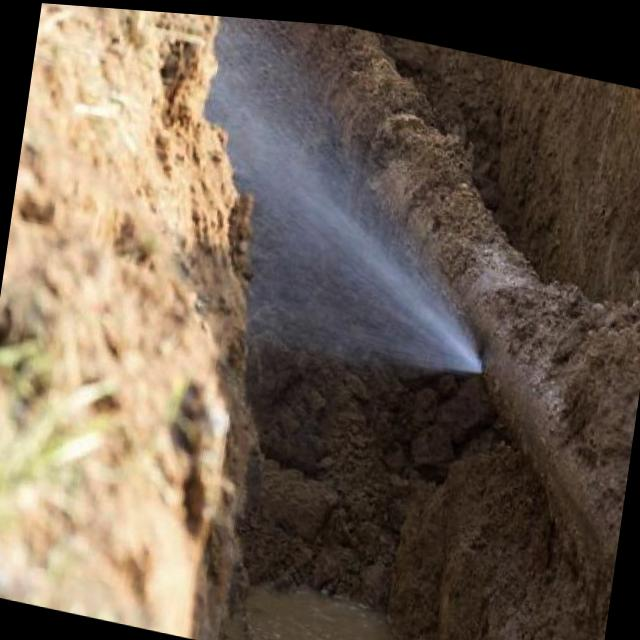leak: (205, 16, 502, 385)
